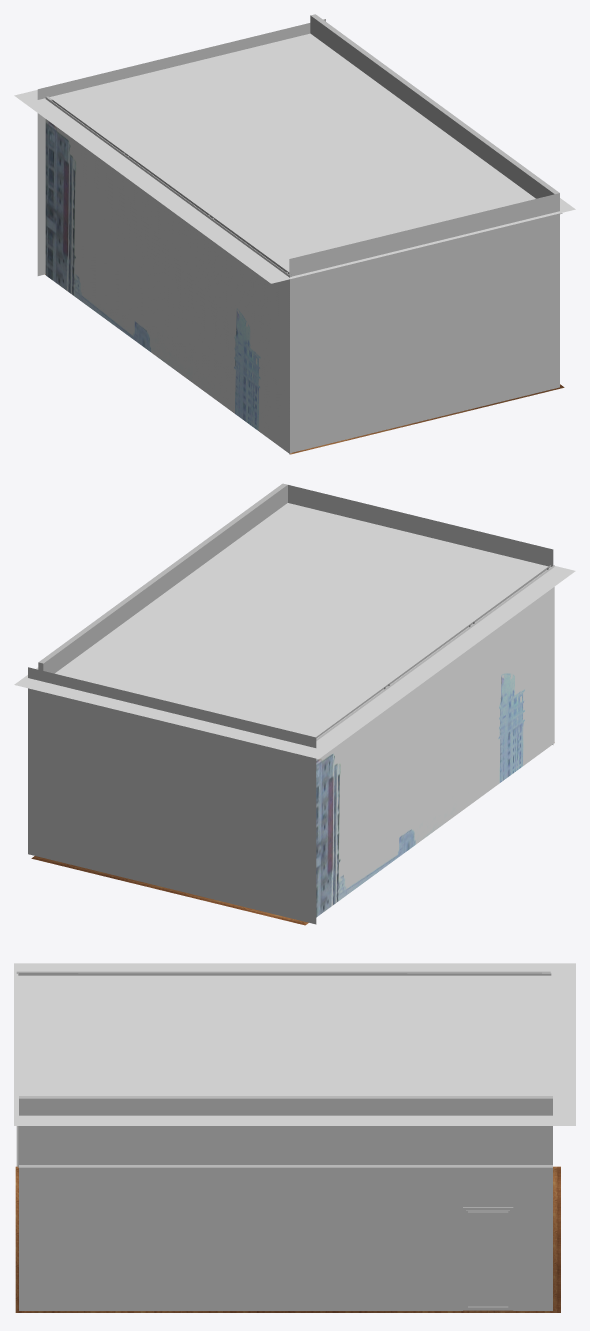
The model's file is business center.FBX.
3 views of the same model, one above another, from view 1: azimuth 30°, elevation 25°; view 2: azimuth 150°, elevation 25°; view 3: azimuth 270°, elevation 25° (orthographic). The views are drawn at different scales.
Parts seen in each view (by area): view 1: Plane003, shelf, glass, Object004, sliding, floor; view 2: Plane003, Object004, glass, shelf, floor, sliding; view 3: shelf, Plane003, door, floor, glass, sliding.
Part boxes in pixels (x1,y1,x2,y2): Plane003: (14, 33, 575, 283); shelf: (289, 14, 559, 454); glass: (45, 97, 289, 453); Object004: (37, 19, 325, 275); sliding: (46, 96, 291, 453); floor: (45, 274, 564, 454); Plane003: (14, 503, 575, 759); Object004: (28, 667, 316, 924); glass: (316, 565, 554, 917); shelf: (38, 483, 553, 744); floor: (31, 856, 308, 925); sliding: (316, 565, 552, 738); shelf: (19, 1096, 552, 1310); Plane003: (14, 963, 575, 1125); door: (463, 1207, 513, 1310); floor: (15, 1166, 560, 1312); glass: (16, 971, 550, 1166); sliding: (18, 972, 551, 1167).
Bounding box in the file's own units: 322 × 197 × 470.
